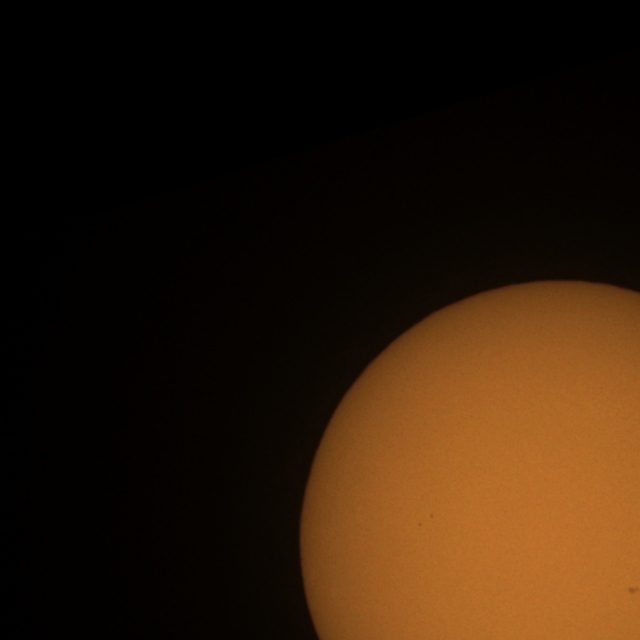sunspot: (626, 584, 640, 596), (428, 512, 434, 520), (418, 522, 422, 528)
